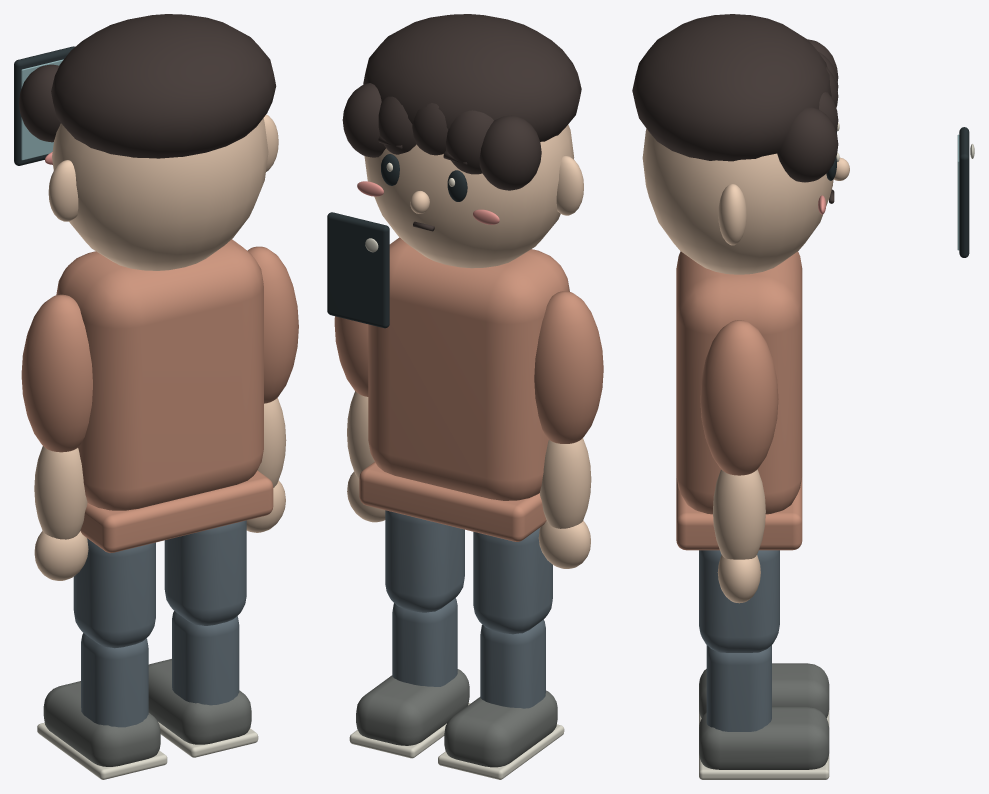
Rendered from student_photo.glb.
3 views of the same model, side by side, from view 1: azimuth 30°, elevation 25°; view 2: azimuth 150°, elevation 25°; view 3: azimuth 270°, elevation 25° (orthographic). The views are drawn at different scales.
Parts seen in each view (by area): view 1: StudentPhotoHem, StudentPhotoBrow, StudentPhotoEar, StudentPhotoSleeve, StudentPhotoThigh, StudentPhotoThigh.001, StudentPhotoForearm, StudentPhotoShin, StudentPhotoShin.001, StudentPhotoShoe, StudentPhotoShoe.001, StudentPhotoSleeve.001 (+5 smaller); view 2: StudentPhotoHem, StudentPhotoBrow, StudentPhotoEar, StudentPhotoSleeve, StudentPhotoThigh, StudentPhotoThigh.001, StudentPhotoPhone, StudentPhotoShoe, StudentPhotoForearm, StudentPhotoShoe.001, StudentPhotoShin, StudentPhotoShin.001 (+6 smaller); view 3: StudentPhotoBrow, StudentPhotoHem, StudentPhotoEar, StudentPhotoSleeve.001, StudentPhotoShoe.001, StudentPhotoThigh.001, StudentPhotoForearm.001, StudentPhotoShin.001, StudentPhotoShoe, StudentPhotoSole.001, StudentPhotoPhone.
Part boxes in pixels (box(x1,y1,x2,y2)): StudentPhotoHem: box(56, 239, 273, 552); StudentPhotoBrow: box(19, 14, 276, 158); StudentPhotoEar: box(48, 114, 278, 270); StudentPhotoSleeve: box(21, 294, 92, 452); StudentPhotoThigh: box(73, 538, 155, 648); StudentPhotoThigh.001: box(164, 520, 246, 625); StudentPhotoForearm: box(34, 446, 88, 580); StudentPhotoShin: box(81, 633, 148, 727); StudentPhotoShin.001: box(172, 611, 239, 705); StudentPhotoShoe: box(43, 681, 160, 766); StudentPhotoShoe.001: box(148, 659, 251, 744); StudentPhotoSleeve.001: box(247, 246, 298, 403); StudentPhotoHem: box(359, 237, 569, 541); StudentPhotoBrow: box(342, 14, 581, 231); StudentPhotoEar: box(364, 124, 583, 268); StudentPhotoSleeve: box(534, 291, 603, 443); StudentPhotoThigh: box(473, 528, 552, 634); StudentPhotoThigh.001: box(385, 510, 464, 612); StudentPhotoPhone: box(327, 212, 389, 328); StudentPhotoShoe: box(444, 690, 557, 767); StudentPhotoForearm: box(538, 438, 591, 568); StudentPhotoShoe.001: box(356, 669, 469, 745); StudentPhotoShin: box(480, 619, 545, 708); StudentPhotoShin.001: box(392, 598, 457, 686); StudentPhotoBrow: box(632, 14, 838, 203); StudentPhotoHem: box(676, 251, 802, 550); StudentPhotoEar: box(642, 129, 849, 274); StudentPhotoSleeve.001: box(700, 320, 778, 475); StudentPhotoShoe.001: box(699, 707, 829, 769); StudentPhotoThigh.001: box(699, 550, 779, 652); StudentPhotoForearm.001: box(713, 469, 765, 603); StudentPhotoShin.001: box(706, 646, 771, 731); StudentPhotoShoe: box(699, 663, 829, 718); StudentPhotoSole.001: box(699, 754, 829, 779); StudentPhotoPhone: box(959, 127, 969, 257).
Size of the model in its own units: 0.676 by 1.75 by 0.761.
